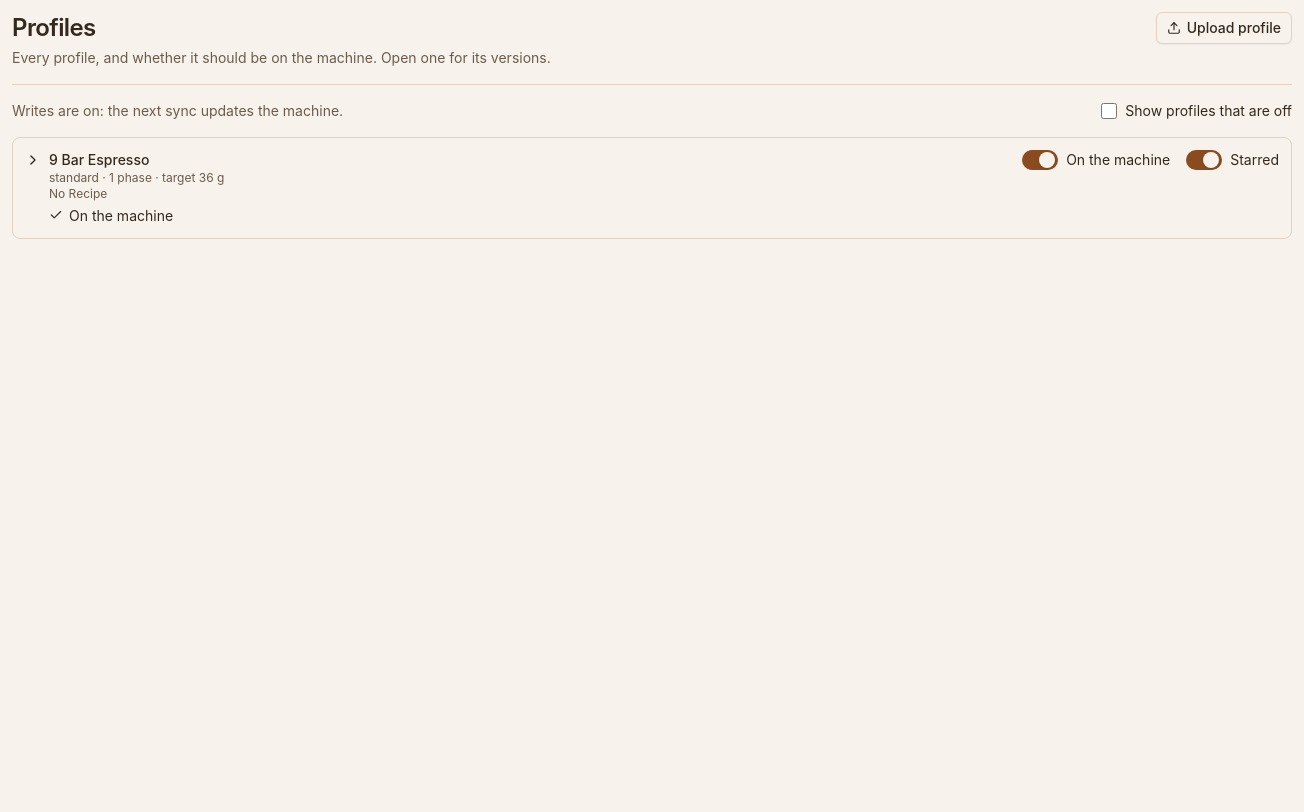
Scenario: Rename, in an open profile › sits beside the profile's name and opens the Name field with its sentence
Step 1. Click the button with test id "profile-toggle" → {"x": 99, "y": 160}, box x1=25 y1=150 x2=1006 y2=226
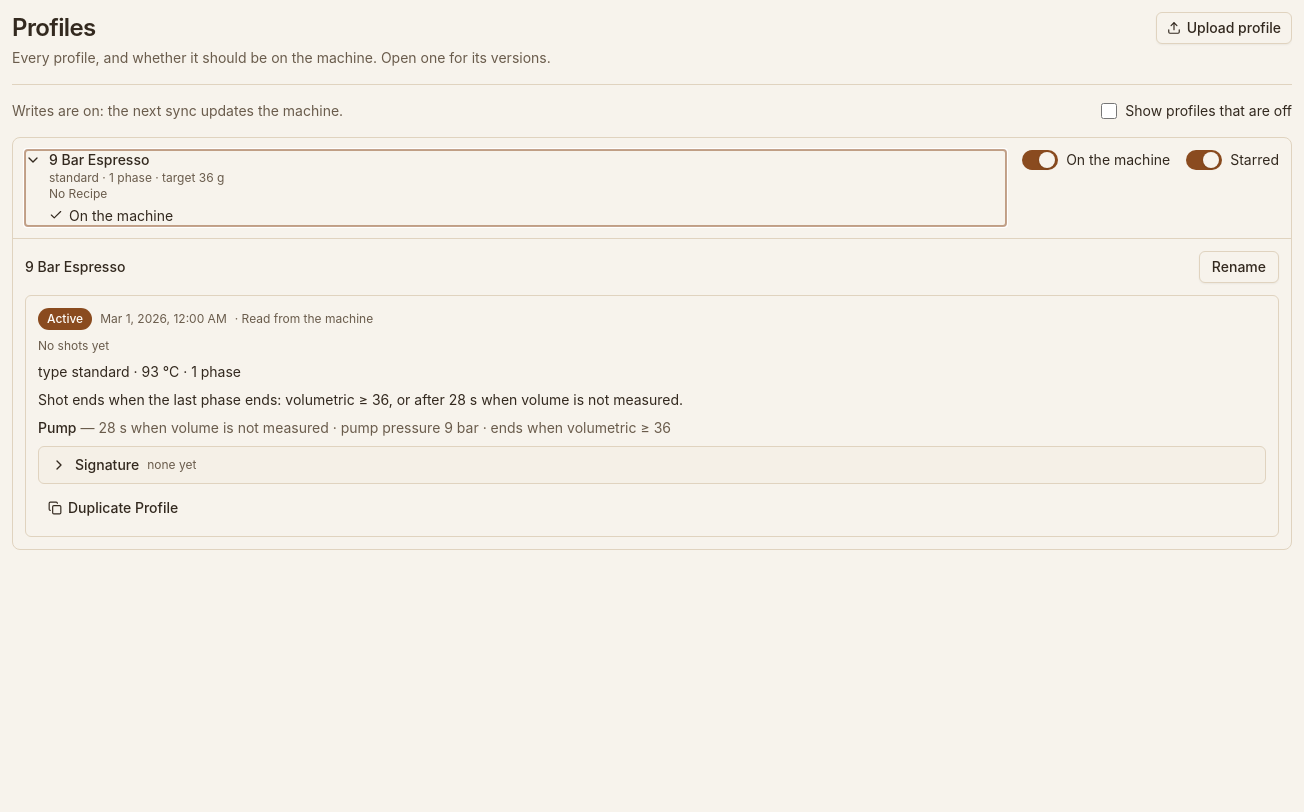
expect the heading with test id "profile-name" reads "9 Bar Espresso": met, box x1=25 y1=258 x2=125 y2=275
Step 2. Click the button with test id "rename-open" → {"x": 1239, "y": 267}, box x1=1199 y1=251 x2=1279 y2=283
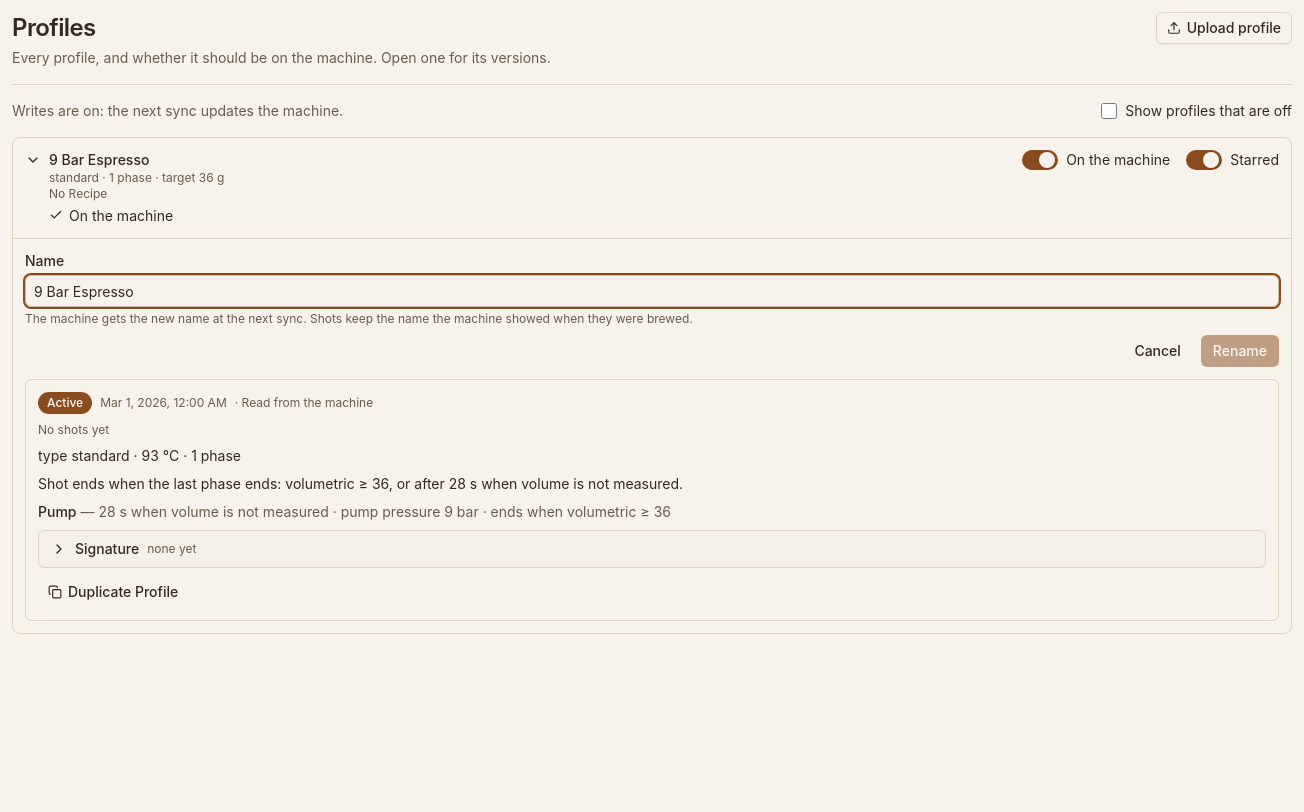
expect the field labelled "Name" holds "9 Bar Espresso": met, box x1=25 y1=275 x2=1279 y2=307
expect the form with test id "rename-form" shows "The machine gets the new name at the next sync. Shots keep the name the machine showed when they were brewed.": met, box x1=25 y1=311 x2=693 y2=326
expect the button with test id "rename-cancel" reads "Cancel": met, box x1=1122 y1=335 x2=1193 y2=367
